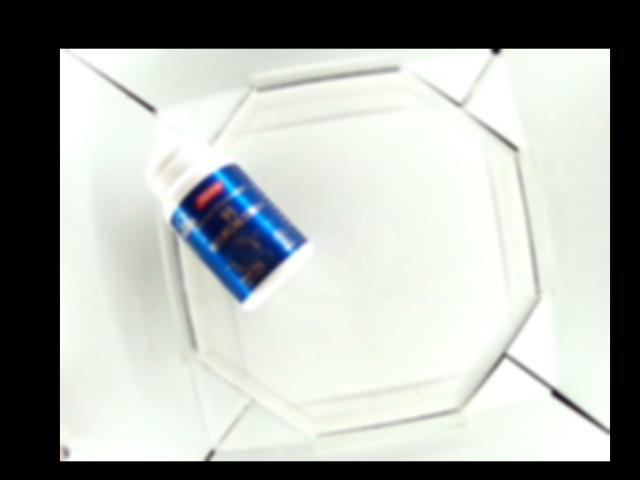Bottle: (144, 134, 311, 310)
